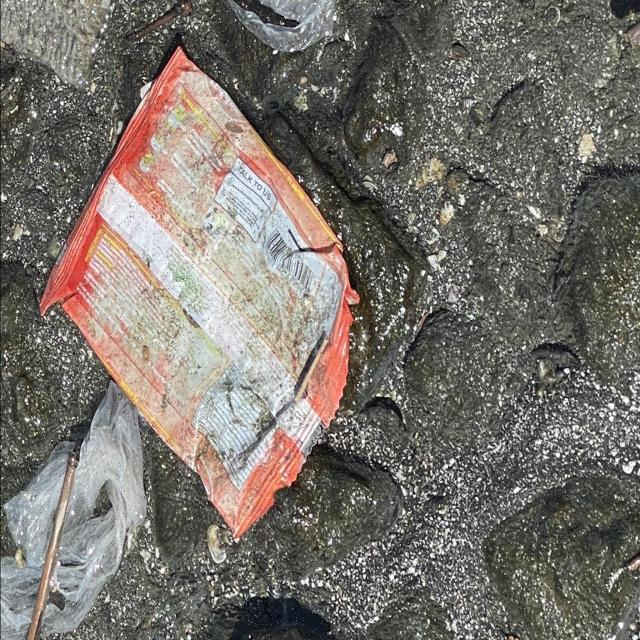plastic_waste: (37, 47, 361, 543)
